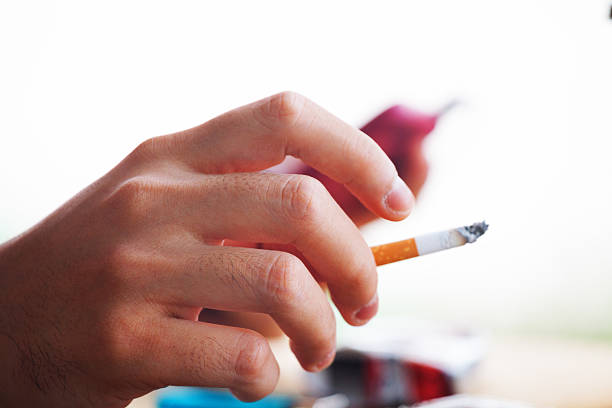cigarette: (367, 221, 488, 267)
